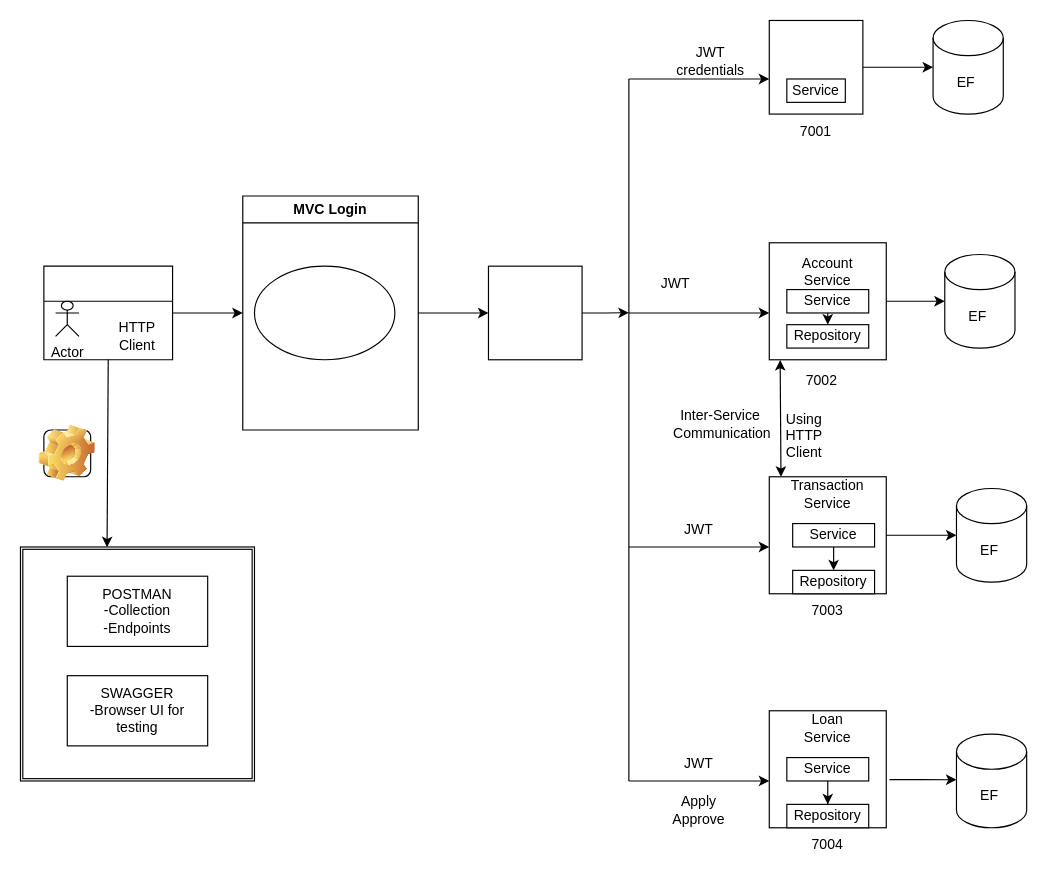
This 1047x883 diagram has some shape labels left out. The shapes that lost their labels are listed below. From the top down, each one's box as (x1, y1, x2, y2) in pixels, then its label:
(768, 19, 863, 114): Auth Service
(43, 265, 173, 360): Browser
(253, 265, 395, 360): Register/Login
(487, 265, 582, 360): Gateway 7000
(43, 429, 91, 477): TESTING
